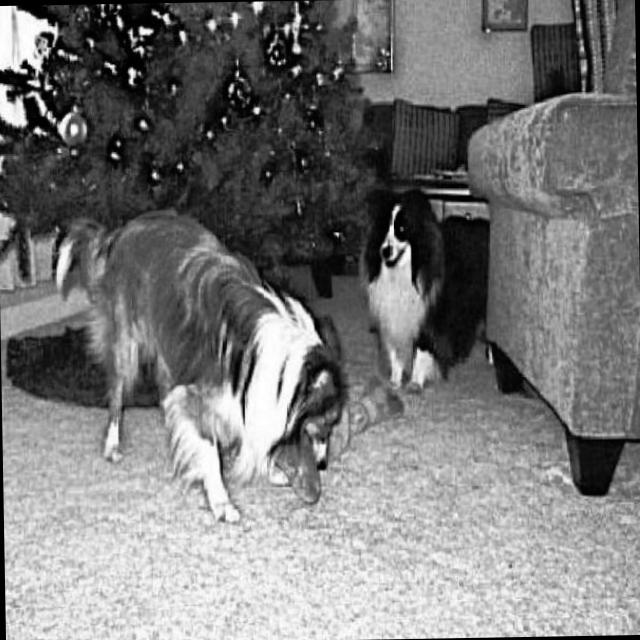Dog: (44, 197, 350, 536), (360, 175, 494, 392)
